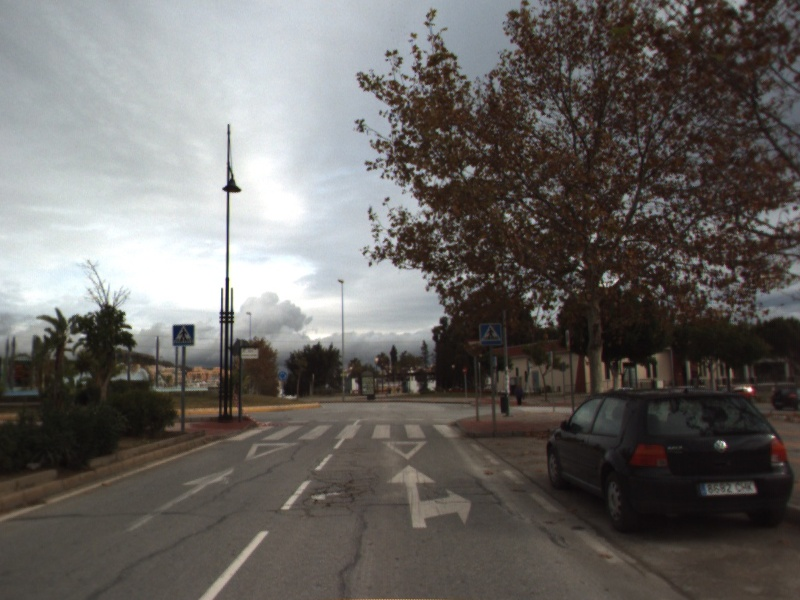STRAIGHT: (122, 463, 237, 534)
STRAIGHT_RIGHT: (384, 462, 474, 530)
